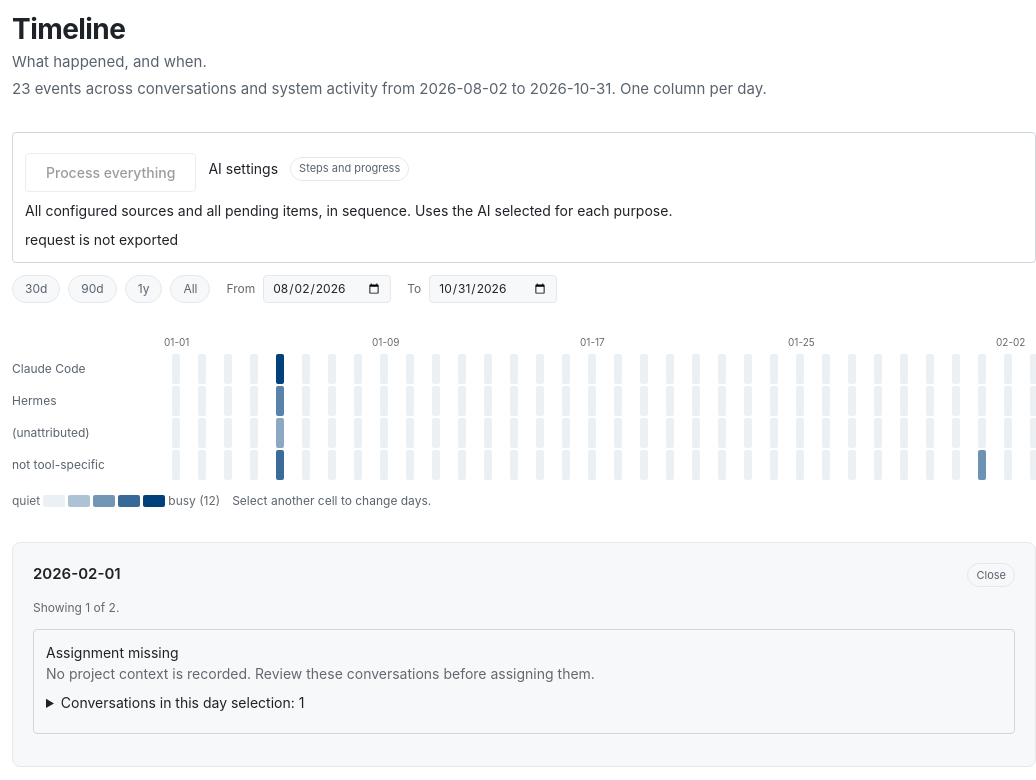
Test: TimelinePage › scopes the detail request to the clicked lane, not the app-wide provider scope
Click the button named "Hermes, 2026-01-05, 3 events" at coordinates (280, 401), box [268,386,292,416]
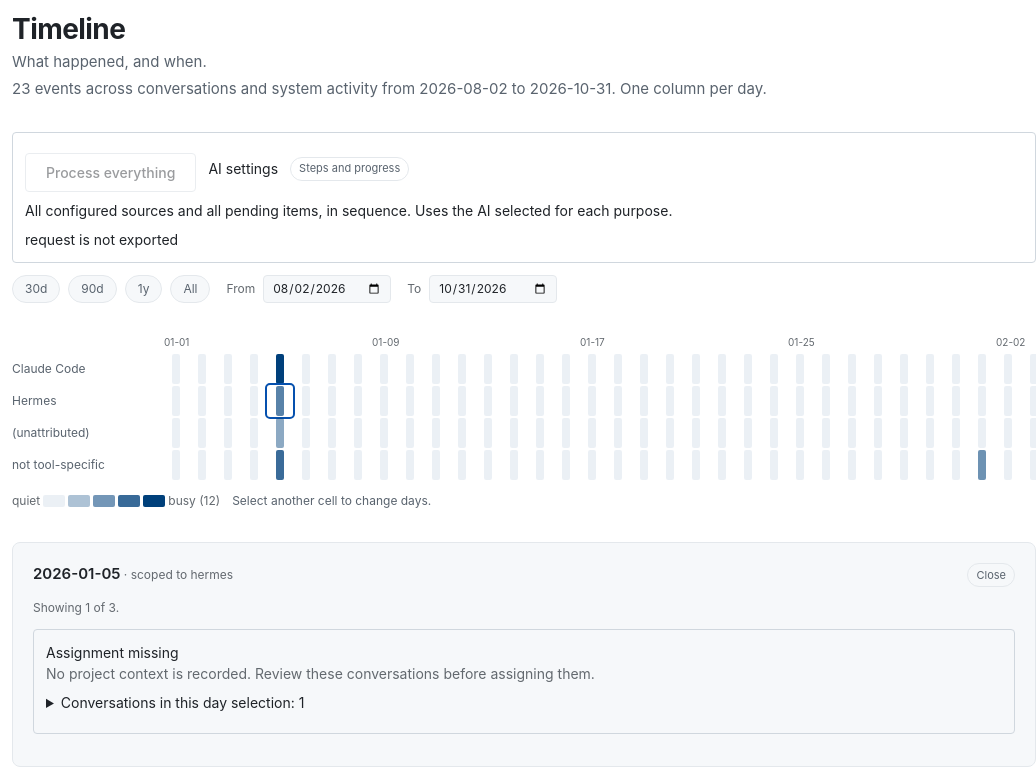
expect the element named "events on 2026-01-05" is shown: met, box [12,542,1035,767]
